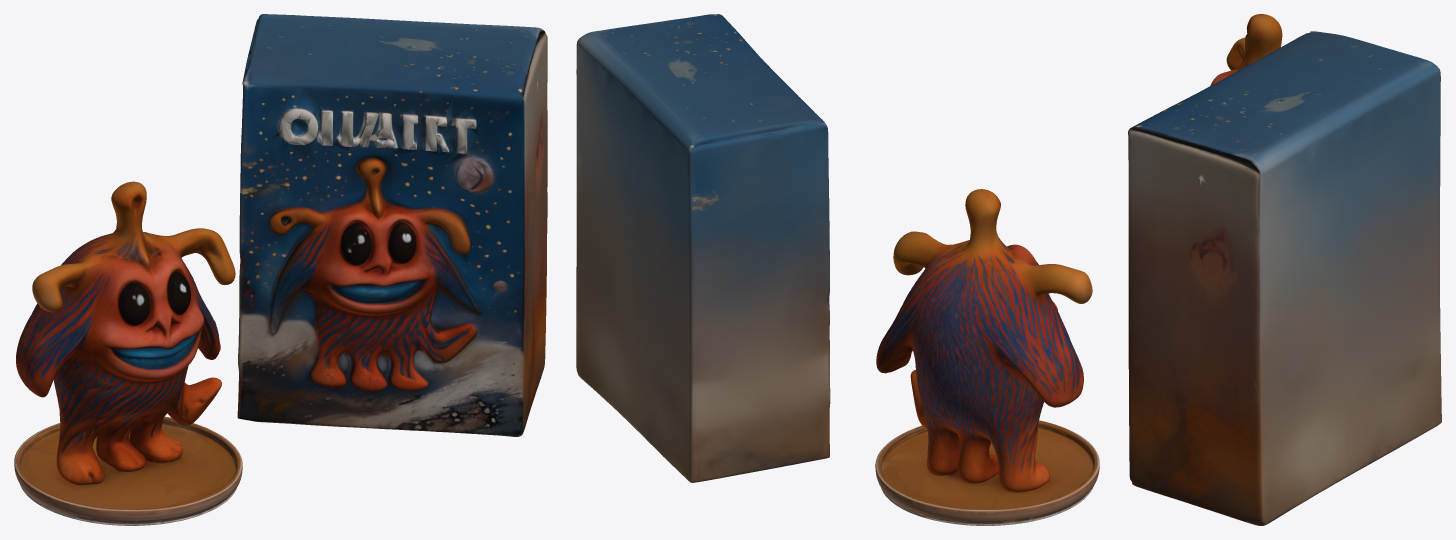
File: changmao-model-lite.glb
3 renders of one model, left to right at view 1: azimuth 30°, elevation 25°; view 2: azimuth 150°, elevation 25°; view 3: azimuth 270°, elevation 25°, orthographic. The views are drawn at different scales.
Parts seen in each view (by area): view 1: material; view 2: material; view 3: material.
Part boxes in pixels (x1,y1,x2,y2): material: (14,14,547,525); material: (576,14,1099,525); material: (1128,14,1441,525).
Bounding box in the file's own units: 1.01 × 0.6641 × 0.5079.
1 material, 1 textured.
